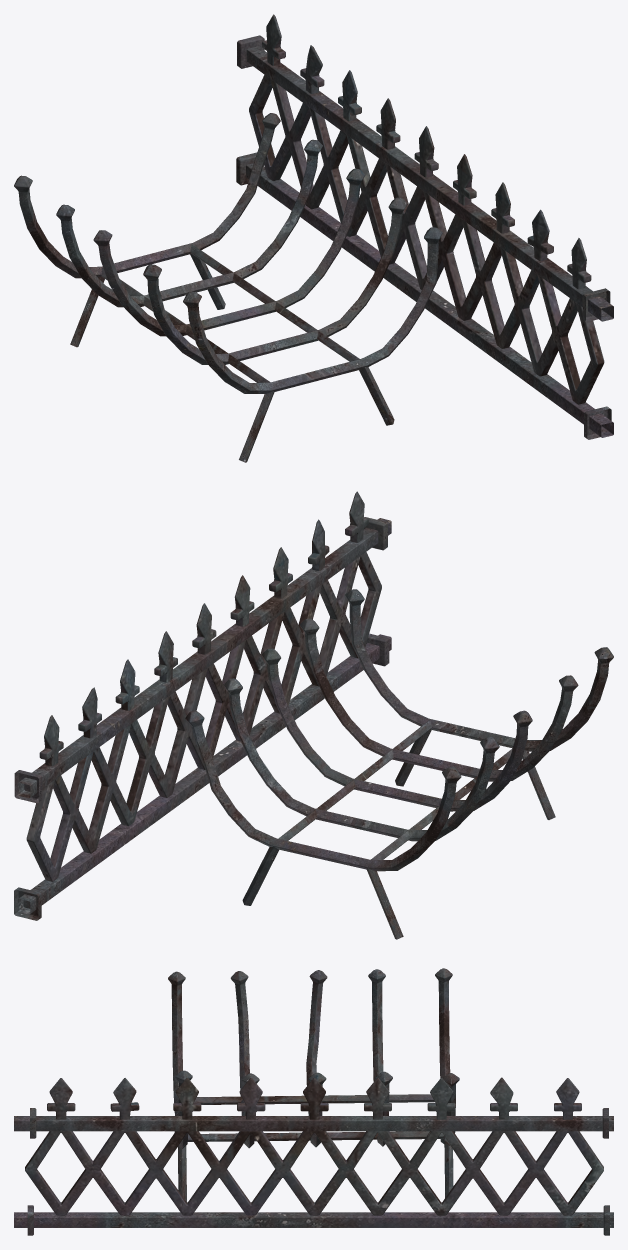
File: SM_FireplaceDetailA.FBX
3 views of the same model, one above another, from view 1: azimuth 30°, elevation 25°; view 2: azimuth 150°, elevation 25°; view 3: azimuth 270°, elevation 25° (orthographic). The views are drawn at different scales.
Parts seen in each view (by area): view 1: SM_FireplaceDetail; view 2: SM_FireplaceDetail; view 3: SM_FireplaceDetail.
Part boxes in pixels (bbox=[...]): SM_FireplaceDetail: bbox=[14, 14, 613, 462]; SM_FireplaceDetail: bbox=[14, 491, 613, 939]; SM_FireplaceDetail: bbox=[14, 968, 613, 1235].
Bounding box in the file's own units: 42.23 × 24.69 × 76.27.
